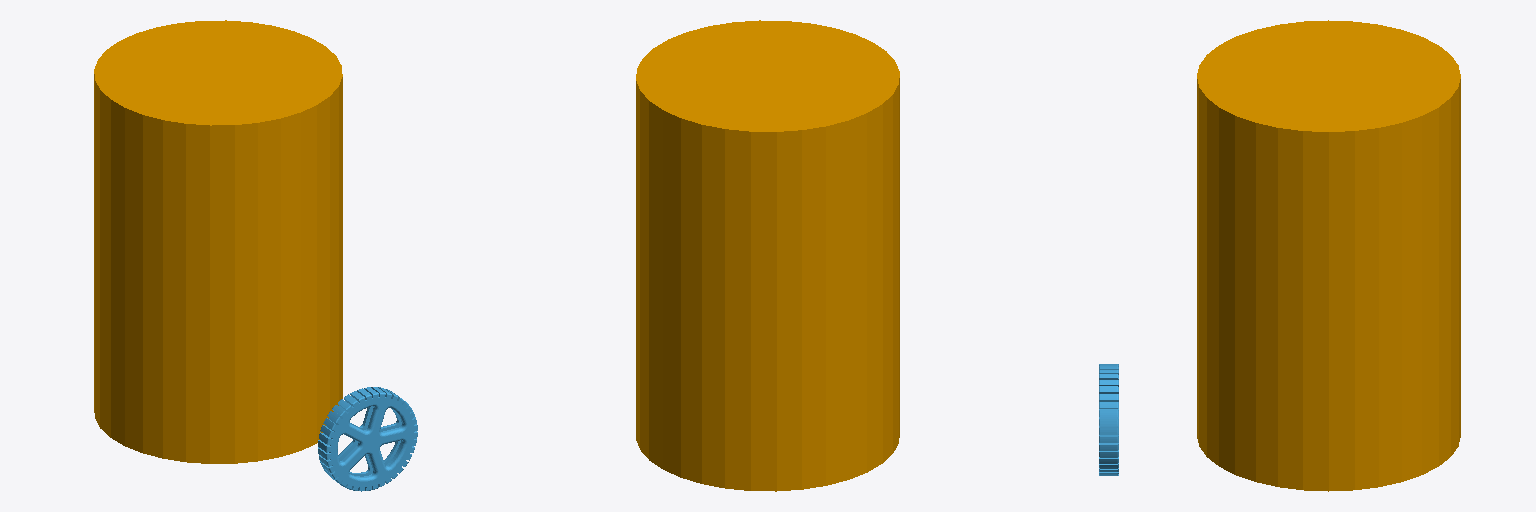
robot.urdf — origins:
<?xml version="1.0"?>
<robot name="origins">
  <link name="base_link">
    <visual>
      <geometry>
        <cylinder length="0.6" radius="0.2"/>
      </geometry>
    </visual>
  </link>

  <link name="right_leg">
    <visual>
      <geometry>
        <mesh filename="package://urdf_tutorial/meshes/right_wheel_1.stl" scale="0.001 0.001 0.001"/>
      </geometry>
      <origin rpy="0 1.57075 0" xyz="0 0 -0.3"/>
    </visual>
  </link>

  <joint name="base_to_right_leg" type="fixed">
    <parent link="base_link"/>
    <child link="right_leg"/>
    <origin xyz="0 -0.22 0.25"/>
  </joint>

</robot>

--- What the picture shows (computed from the rendered views, not written in the file) ---
Views: 3 orthographic renders of the robot side by side, from view 1: azimuth 30°, elevation 25°; view 2: azimuth 150°, elevation 25°; view 3: azimuth 270°, elevation 25°.
Robot: origins — 2 links, 1 joints (1 fixed); root link base_link; default pose: every joint at zero.
Links seen in each view (by area): view 1: base_link, right_leg; view 2: base_link; view 3: base_link, right_leg.
Link boxes in pixels (x1=…): base_link: x1=94, y1=20, x2=342, y2=463; right_leg: x1=318, y1=387, x2=417, y2=491; base_link: x1=636, y1=20, x2=899, y2=491; base_link: x1=1197, y1=20, x2=1460, y2=491; right_leg: x1=1099, y1=364, x2=1118, y2=475.
Size in the robot's own frame: 0.4 by 0.5481 by 0.6192 metres.
1 mesh visuals loaded from 1 distinct referenced files (1 binary STL).
